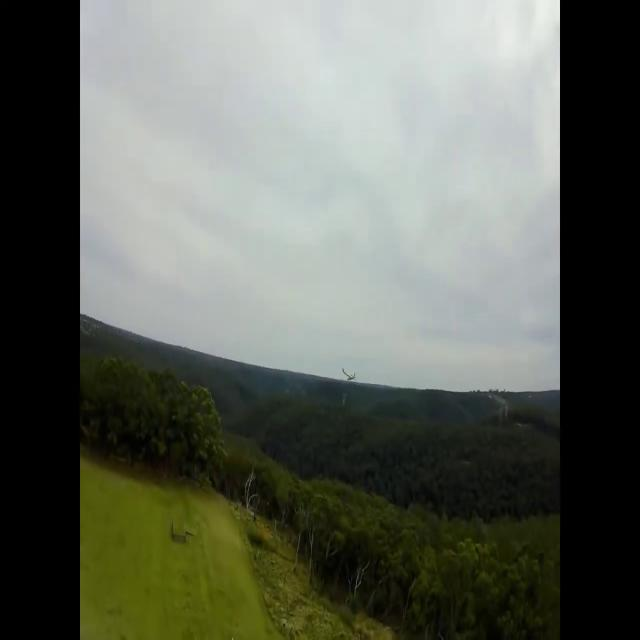iha: (340, 366, 357, 382)
